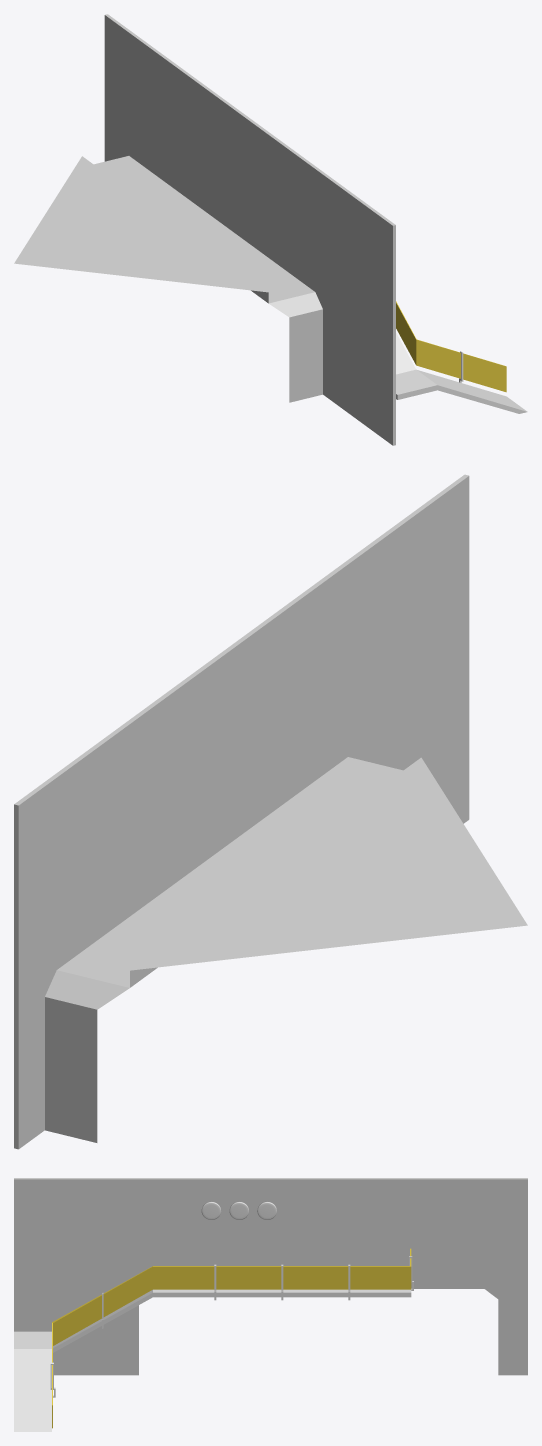
The model's file is MainRoom_Inside.fbx.
The picture shows the model from 3 angles, top to bottom: view 1: azimuth 30°, elevation 25°; view 2: azimuth 150°, elevation 25°; view 3: azimuth 270°, elevation 25°; orthographic projection. The views are drawn at different scales.
Visible parts, largest first — view 1: muro_scalinata; view 2: muro_scalinata; view 3: muro_scalinata.
Part boxes in pixels (left/top/right/bottom): muro_scalinata: left=14, top=14, right=527, bottom=445; muro_scalinata: left=14, top=474, right=527, bottom=1149; muro_scalinata: left=14, top=1178, right=527, bottom=1431.
Bounding box in the file's own units: 633 × 388 × 921.
